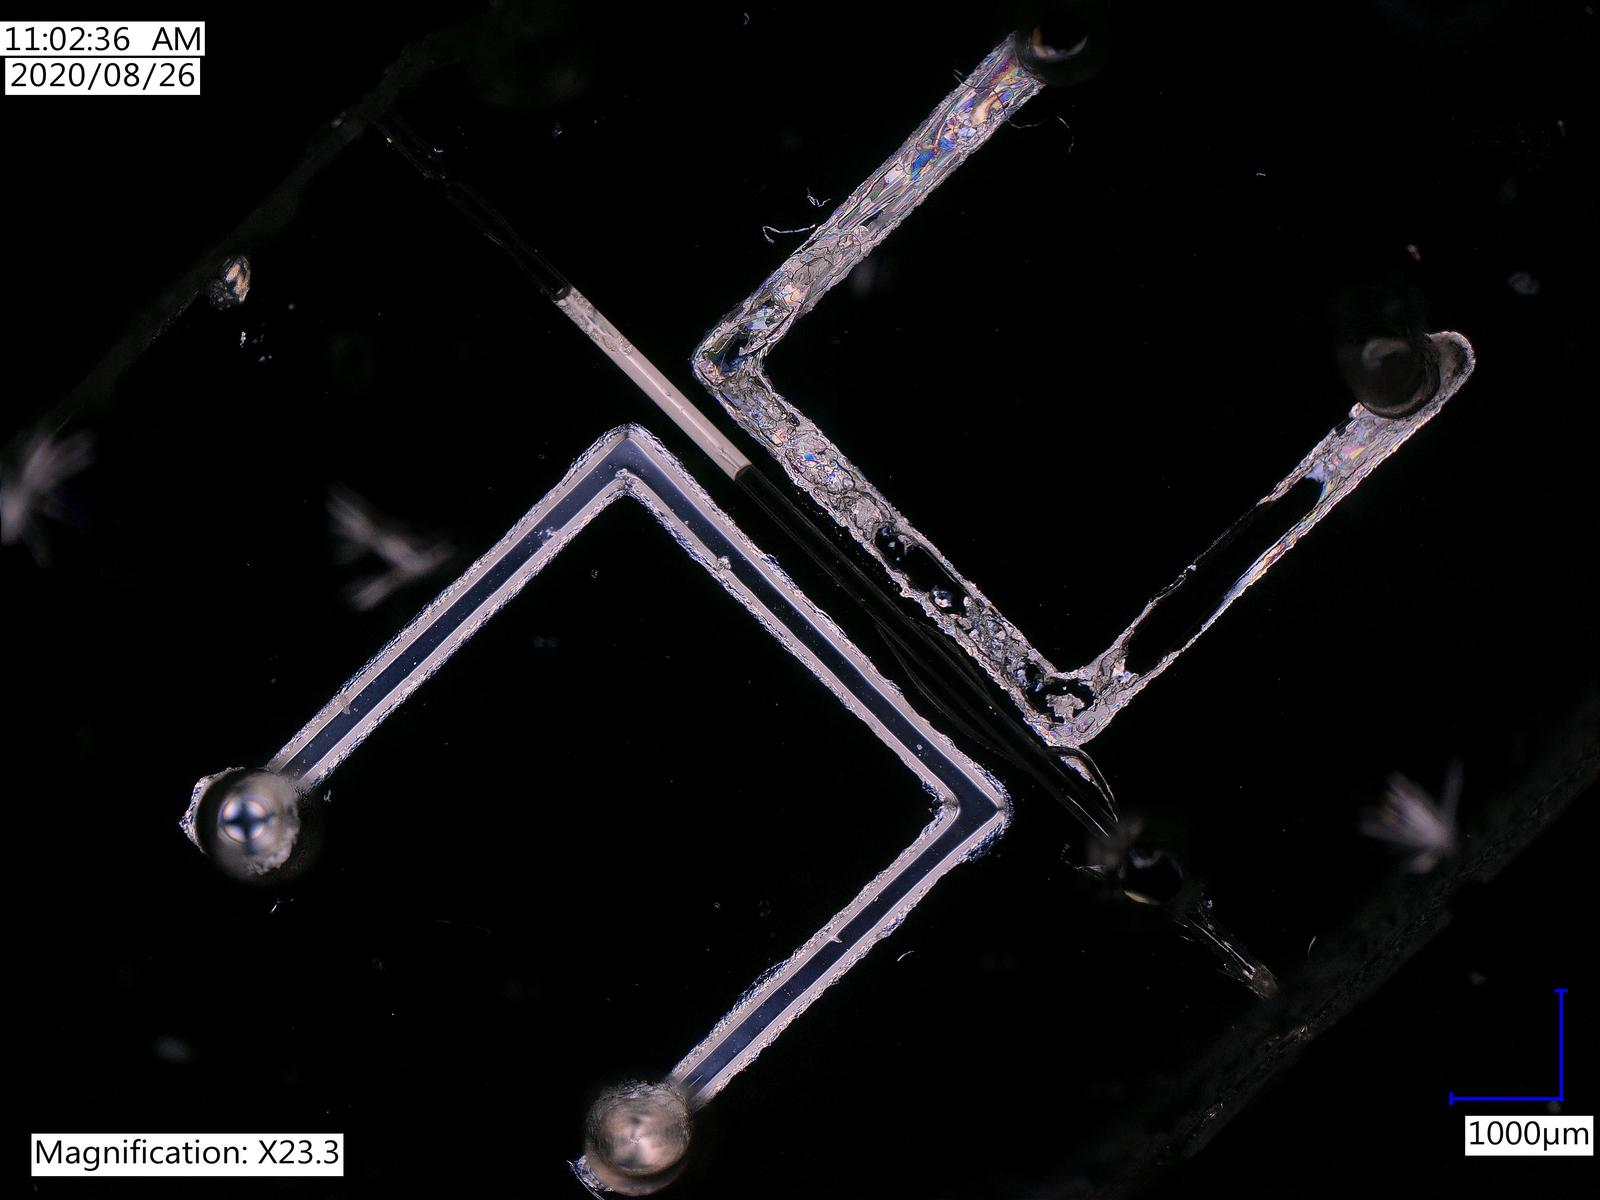sediment: (726, 368, 789, 432), (963, 605, 1026, 668), (824, 488, 888, 521), (1097, 644, 1125, 710), (1041, 691, 1083, 716)
